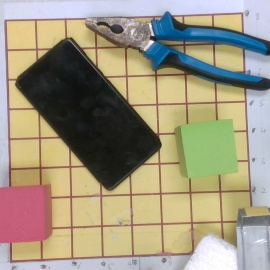phone: (14, 36, 162, 192)
